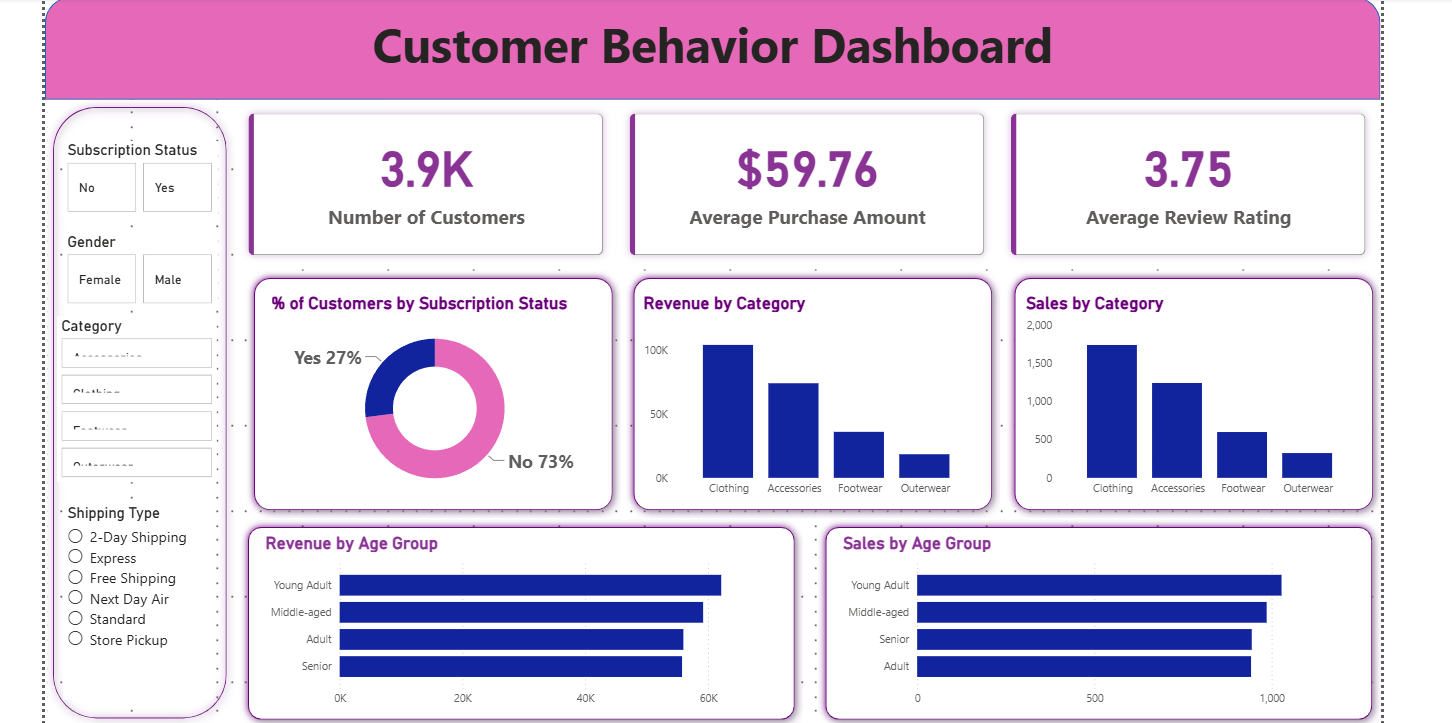

The page's visual inventory and layout, read from the dashboard file:
{"tool":"powerbi","page":{"name":"Page 1","canvas":[1500,820],"ordinal":0},"visuals":[{"type":"cardVisual","fields":{"Data":["public customer.Number of Customers","public customer.Average Purchase Amount","public customer.Average Review Rating"]},"box":[212.9,115.3,1286.5,191.6],"z":2000},{"type":"shape","box":[218.3,585.6,631.7,234.2],"z":2500,"group":"g1"},{"type":"shape","box":[0,0,1499.4,115.3],"z":3000},{"type":"textbox","box":[0,12.4,1499.4,102.9],"z":4000},{"type":"shape","box":[225.4,307,420.5,278.6],"z":5000},{"type":"donutChart","title":"% of Customers by Subscription Status","fields":{"Category":["public customer.subscription_status"],"Y":["CountNonNull(public customer.customer_id)"]},"box":[248.4,331.8,376.2,237.8],"z":6000},{"type":"shape","box":[1078.9,307,420.5,278.6],"z":7000},{"type":"shape","box":[652.1,307,420.5,278.6],"z":8000},{"type":"clusteredColumnChart","title":"Revenue by Category","fields":{"Y":["Sum(public customer.purchase_amount)"],"Category":["public customer.category"]},"box":[667.2,331.8,385.1,237.8],"z":9000},{"type":"clusteredColumnChart","title":"Sales by Category","fields":{"Y":["CountNonNull(public customer.customer_id)"],"Category":["public customer.category"]},"box":[1096.6,331.8,385.1,237.8],"z":10000},{"type":"shape","box":[0,115.3,212.9,704.5],"z":11000},{"type":"advancedSlicerVisual","fields":{"Values":["public customer.subscription_status"]},"box":[19.5,161.5,173.9,85.2],"z":12000},{"type":"advancedSlicerVisual","fields":{"Values":["public customer.gender"]},"box":[19.5,264.4,173.9,85.2],"z":13000},{"type":"advancedSlicerVisual","fields":{"Values":["public customer.category"]},"box":[14.2,358.4,179.2,186.3],"z":14000},{"type":"listSlicer","fields":{"Values":["public customer.shipping_type"]},"box":[19.5,569.6,168.6,220],"z":15000},{"type":"shape","box":[867.7,585.6,631.7,234.2],"z":16000},{"type":"clusteredBarChart","title":"Sales by Age Group","fields":{"Y":["CountNonNull(public customer.customer_id)"],"Category":["public customer.age_group"]},"box":[890.8,601.5,585.6,204.1],"z":17000},{"type":"clusteredBarChart","title":"Revenue by Age Group","fields":{"Y":["Sum(public customer.purchase_amount)"],"Category":["public customer.age_group"]},"box":[241.4,601.6,585.6,204.1],"z":17500,"group":"g1"},{"type":"group","id":"g1","title":"Group 1","box":[218.3,585.6,631.7,234.2],"z":17501}]}

Visuals, with their boxes in screenshot pixels (x1, y1, x2, y2):
cardVisual - public customer.Number of Customers x public customer.Average Purchase Amount: <region>222, 100, 1380, 273</region>
shape: <region>227, 524, 796, 722</region>
shape: <region>30, 0, 1380, 100</region>
textbox: <region>30, 7, 1380, 100</region>
shape: <region>233, 273, 612, 524</region>
"% of Customers by Subscription Status" donutChart: <region>254, 295, 593, 509</region>
shape: <region>1002, 273, 1380, 524</region>
shape: <region>617, 273, 996, 524</region>
"Revenue by Category" clusteredColumnChart: <region>631, 295, 978, 509</region>
"Sales by Category" clusteredColumnChart: <region>1018, 295, 1365, 509</region>
shape: <region>30, 100, 222, 722</region>
advancedSlicerVisual - public customer.subscription_status: <region>48, 142, 204, 218</region>
advancedSlicerVisual - public customer.gender: <region>48, 234, 204, 311</region>
advancedSlicerVisual - public customer.category: <region>43, 319, 204, 487</region>
listSlicer - public customer.shipping_type: <region>48, 509, 200, 707</region>
shape: <region>812, 524, 1380, 722</region>
"Sales by Age Group" clusteredBarChart: <region>832, 538, 1360, 722</region>
"Revenue by Age Group" clusteredBarChart: <region>248, 538, 775, 722</region>
"Group 1" group: <region>227, 524, 796, 722</region>
